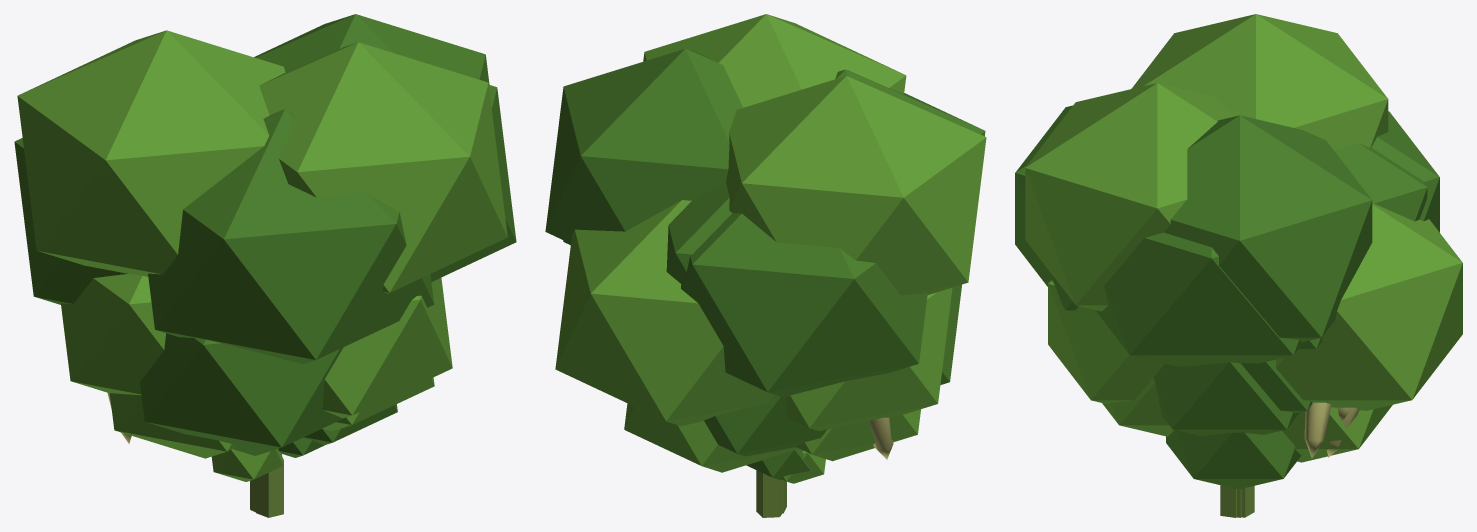
The model's file is Crop_Veg_Chickpea.fbx.
3 views of the same model, side by side, from view 1: azimuth 30°, elevation 25°; view 2: azimuth 150°, elevation 25°; view 3: azimuth 270°, elevation 25° (orthographic). The views are drawn at different scales.
Parts seen in each view (by area): view 1: Crop_Veg_Chickpea__S4, Crop_Veg_Chickpea__S3, Crop_Veg_Chickpea__S5, Crop_Veg_Chickpea__S1, Crop_Veg_Chickpea__S2; view 2: Crop_Veg_Chickpea__S4, Crop_Veg_Chickpea__S3, Crop_Veg_Chickpea__S5, Crop_Veg_Chickpea__S1; view 3: Crop_Veg_Chickpea__S4, Crop_Veg_Chickpea__S5, Crop_Veg_Chickpea__S3, Crop_Veg_Chickpea__S2, Crop_Veg_Chickpea__S1.
Part boxes in pixels (x1,y1,x2,y2): Crop_Veg_Chickpea__S4: (14, 14, 516, 510); Crop_Veg_Chickpea__S3: (61, 274, 452, 509); Crop_Veg_Chickpea__S5: (109, 377, 434, 511); Crop_Veg_Chickpea__S1: (211, 438, 324, 517); Crop_Veg_Chickpea__S2: (303, 404, 397, 445); Crop_Veg_Chickpea__S4: (545, 14, 986, 516); Crop_Veg_Chickpea__S3: (666, 182, 961, 517); Crop_Veg_Chickpea__S5: (624, 394, 920, 514); Crop_Veg_Chickpea__S1: (746, 449, 825, 513); Crop_Veg_Chickpea__S4: (1015, 14, 1462, 458); Crop_Veg_Chickpea__S5: (1102, 359, 1392, 517); Crop_Veg_Chickpea__S3: (1048, 143, 1427, 517); Crop_Veg_Chickpea__S2: (1166, 430, 1301, 517); Crop_Veg_Chickpea__S1: (1220, 485, 1236, 517).
Size of the model in its own units: 0.1697 by 0.1818 by 0.1612.
